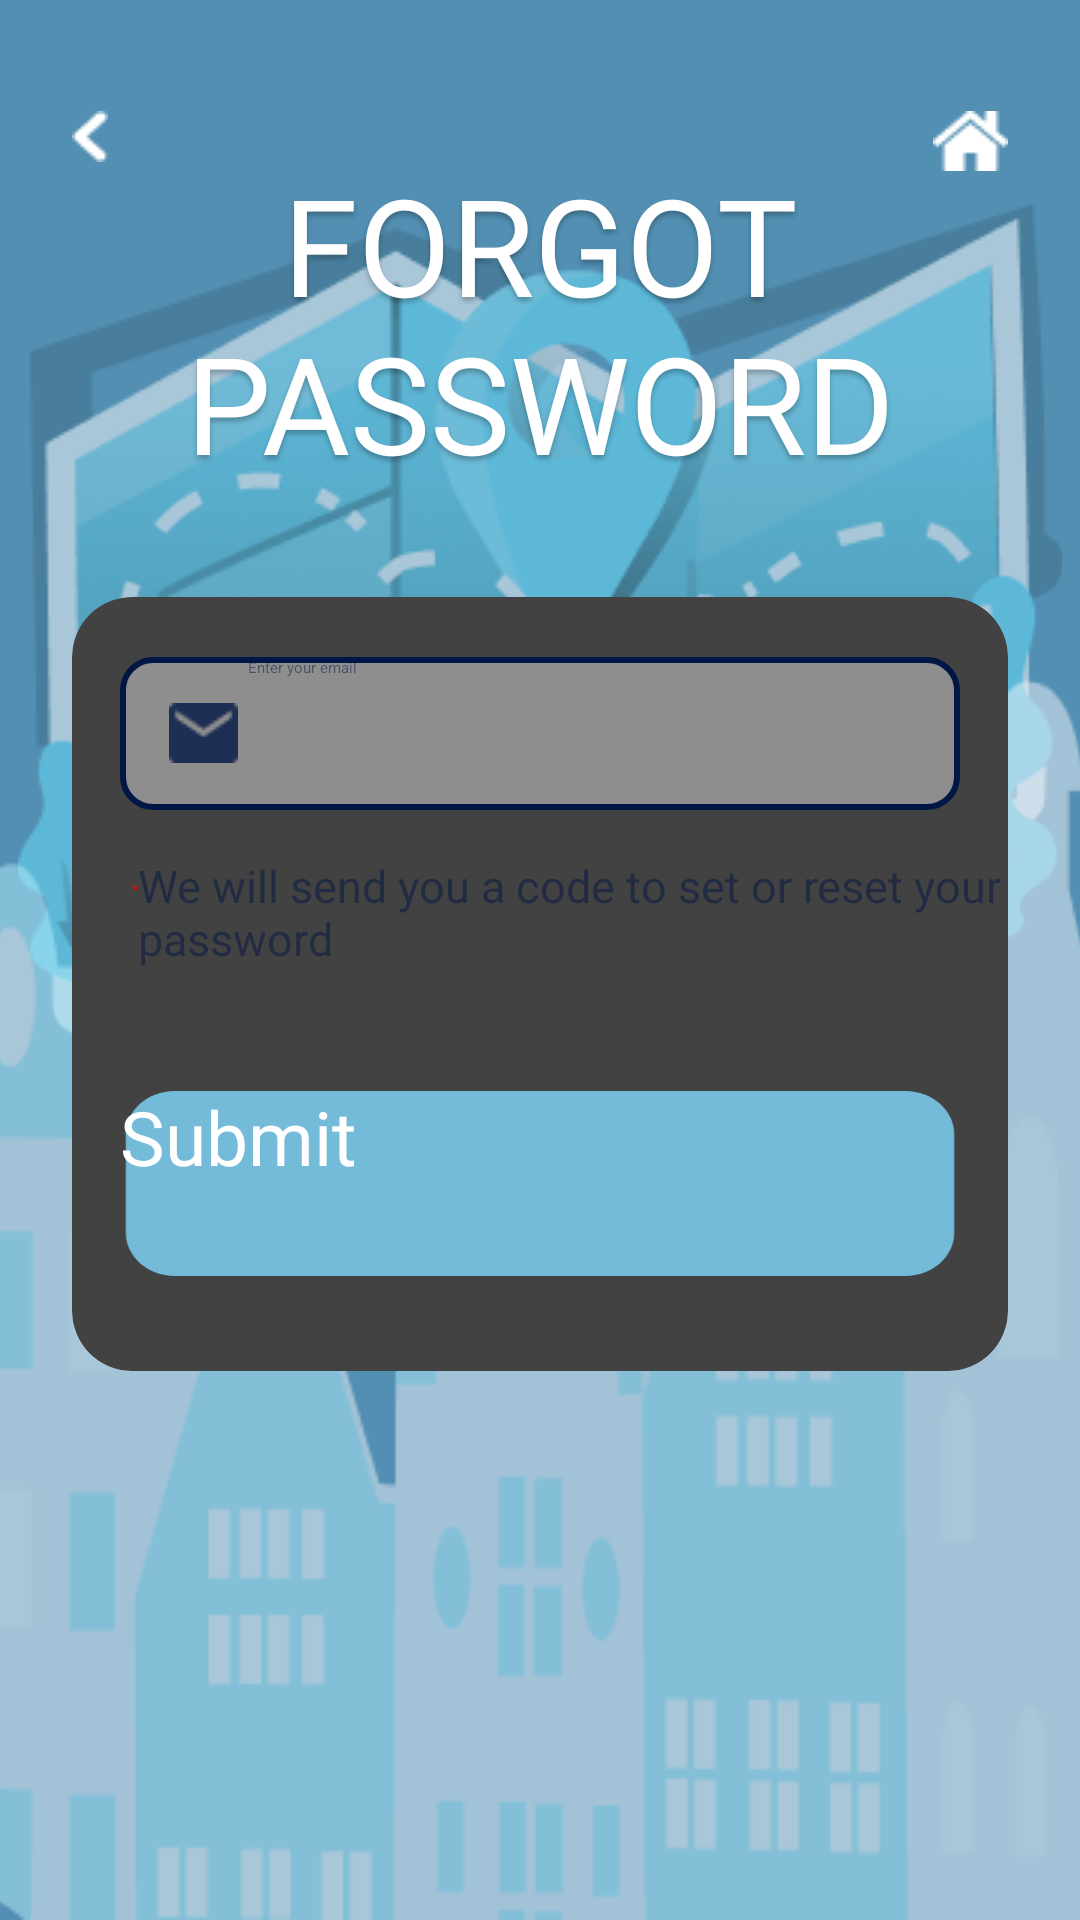

Screen size 1080*1920. Icon name, then its center in pixels as [x,y]:
back: [90,136]
home: [970,141]
